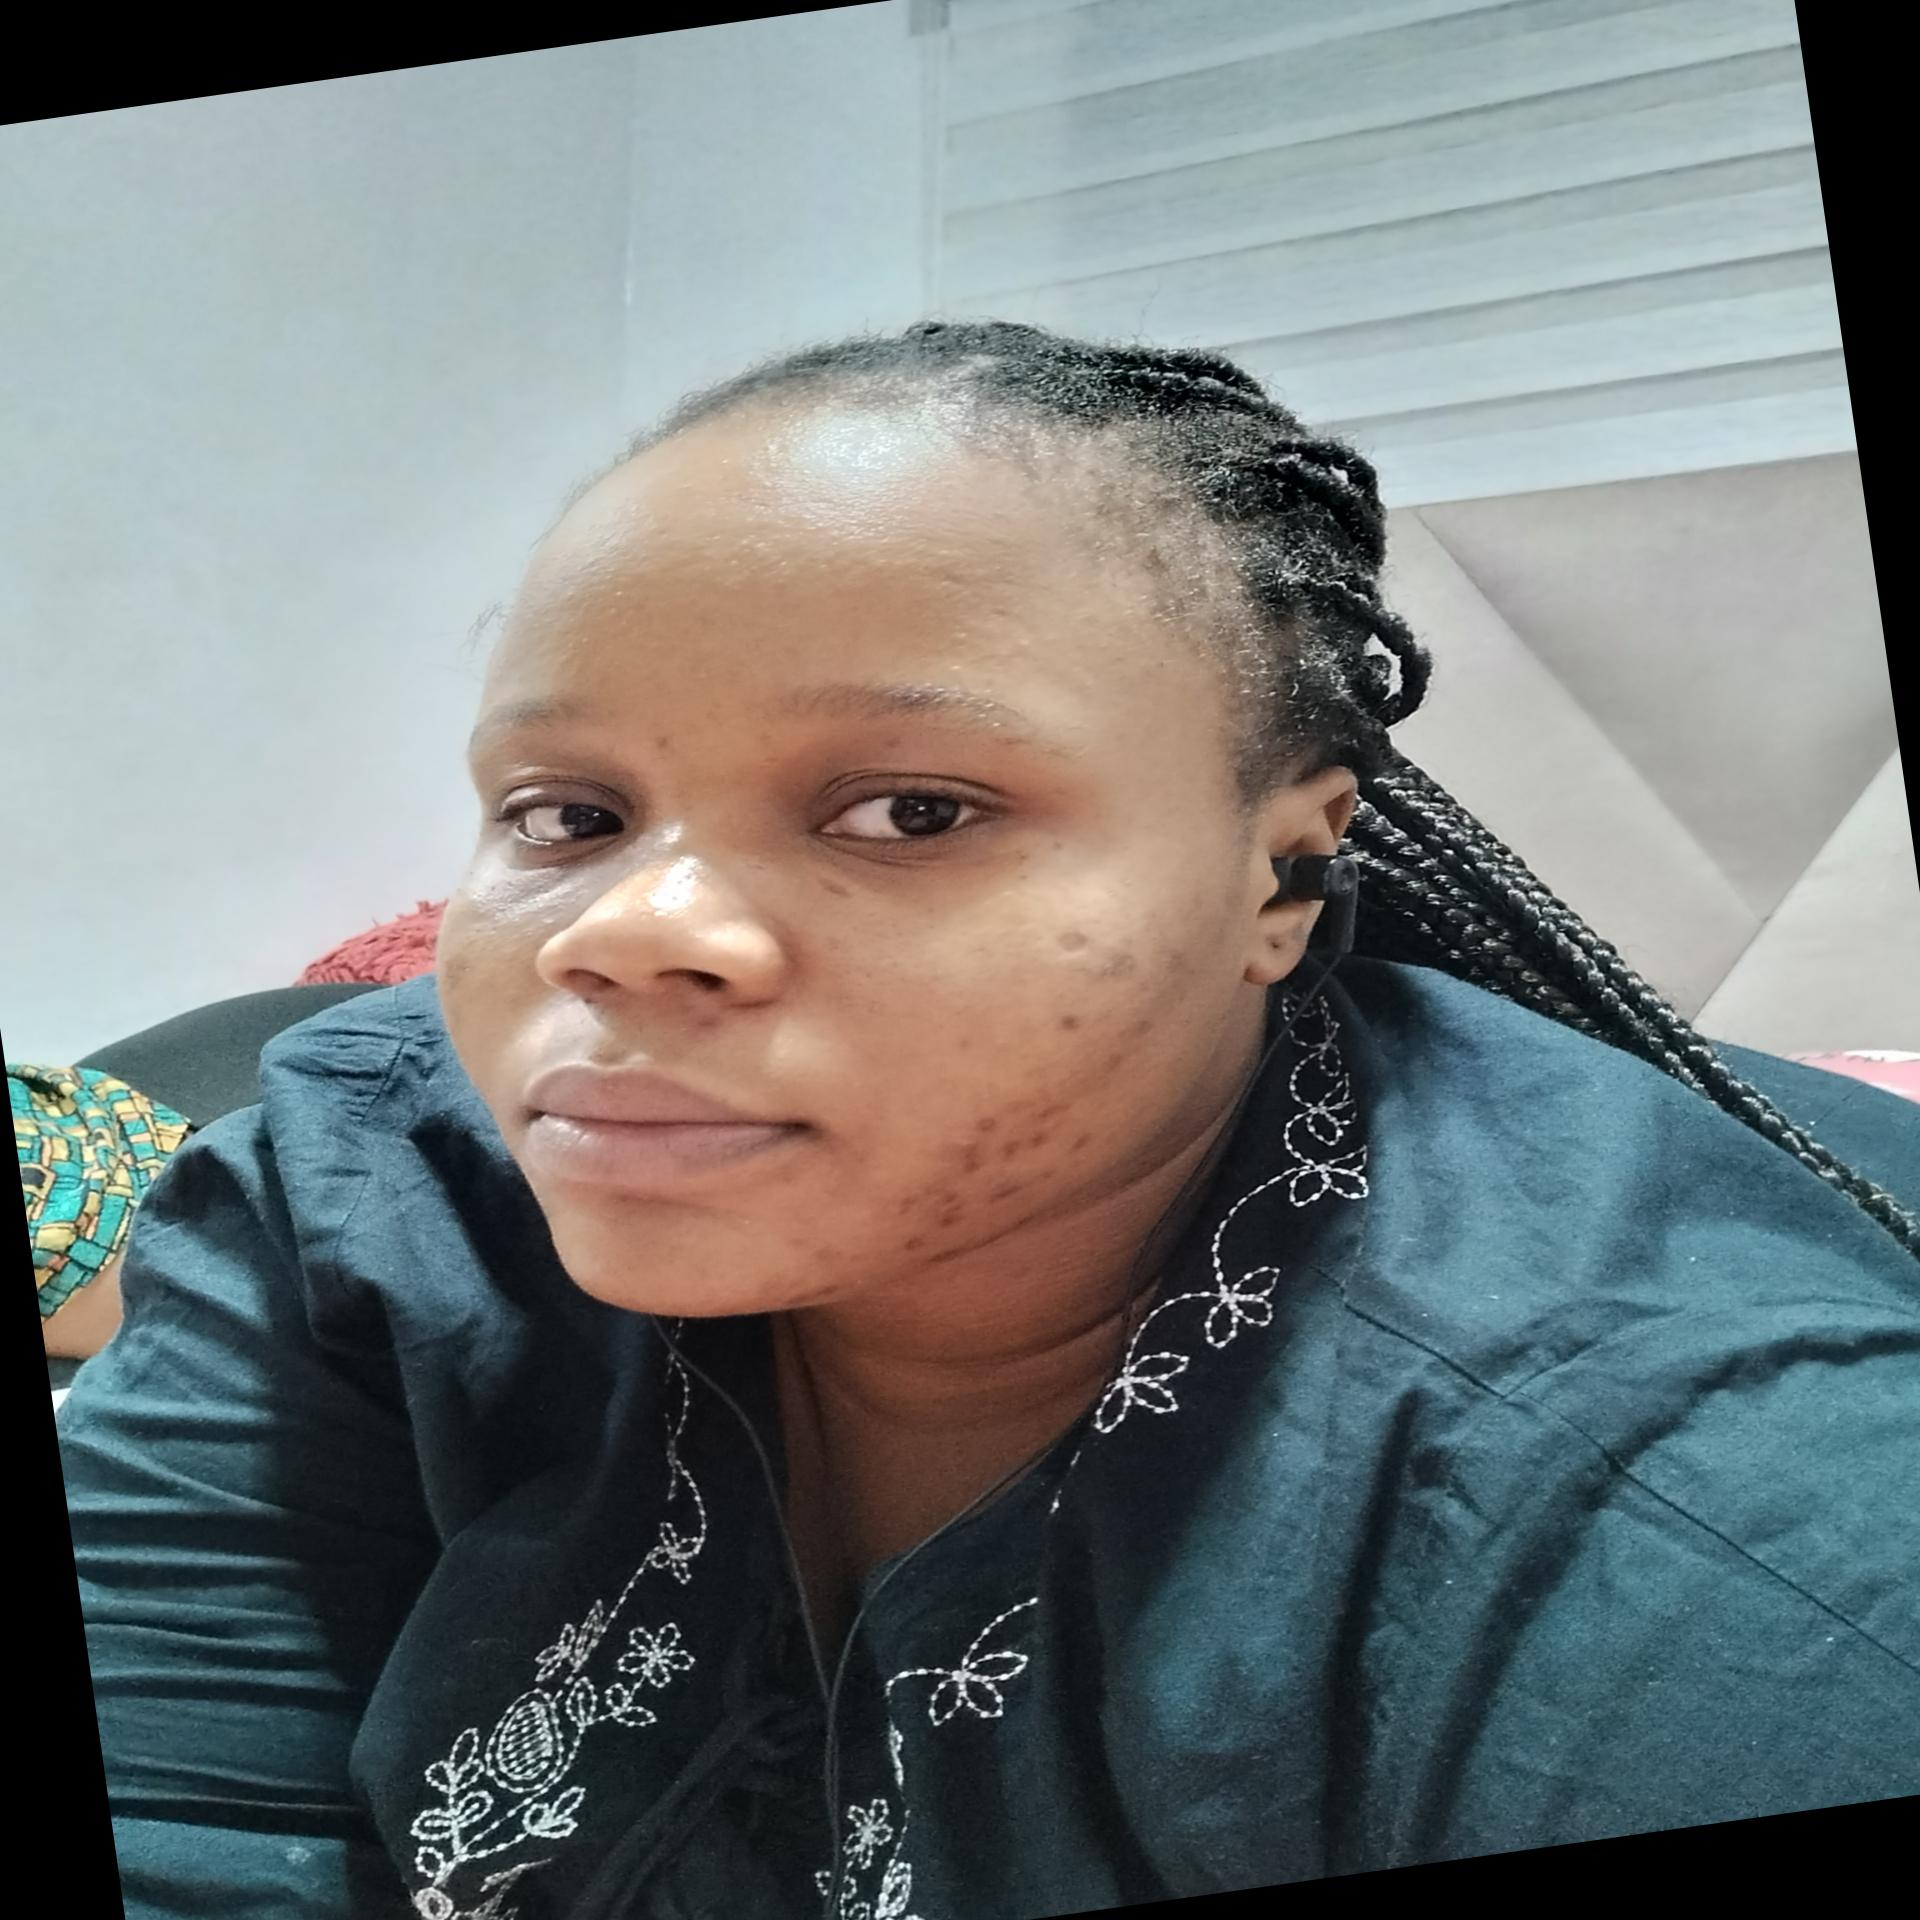Acne: (1048, 918, 1104, 962), (807, 867, 863, 911), (921, 1180, 971, 1227), (1046, 1004, 1092, 1041), (974, 1106, 1020, 1143), (786, 1284, 842, 1310), (1092, 955, 1141, 985), (983, 1176, 1027, 1210), (942, 1145, 988, 1175), (807, 1240, 853, 1268), (642, 726, 680, 754), (921, 1247, 972, 1266), (1102, 1048, 1132, 1078), (1032, 1102, 1074, 1122), (1064, 1131, 1099, 1152), (890, 1194, 921, 1217), (895, 1233, 928, 1254), (730, 1204, 758, 1229), (1129, 1016, 1159, 1039), (1032, 1162, 1065, 1182), (1030, 1127, 1055, 1152), (853, 1271, 877, 1294), (949, 1032, 981, 1050), (997, 1143, 1023, 1164)
Englarged Pores: (823, 942, 913, 1018), (635, 879, 702, 928)
